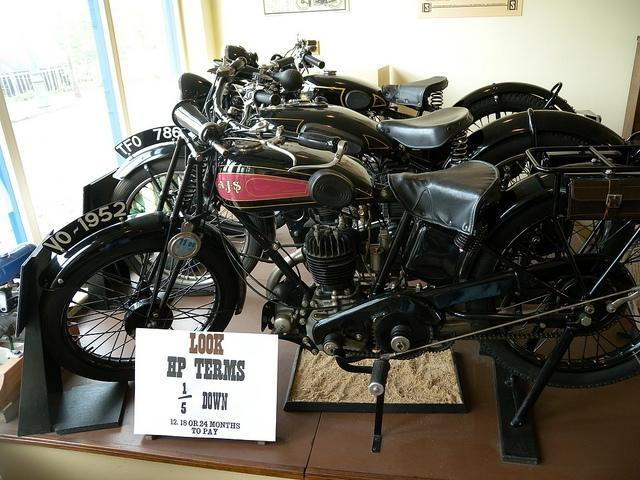motorcycle: (28, 46, 640, 458), (74, 78, 620, 214), (180, 33, 575, 128)
